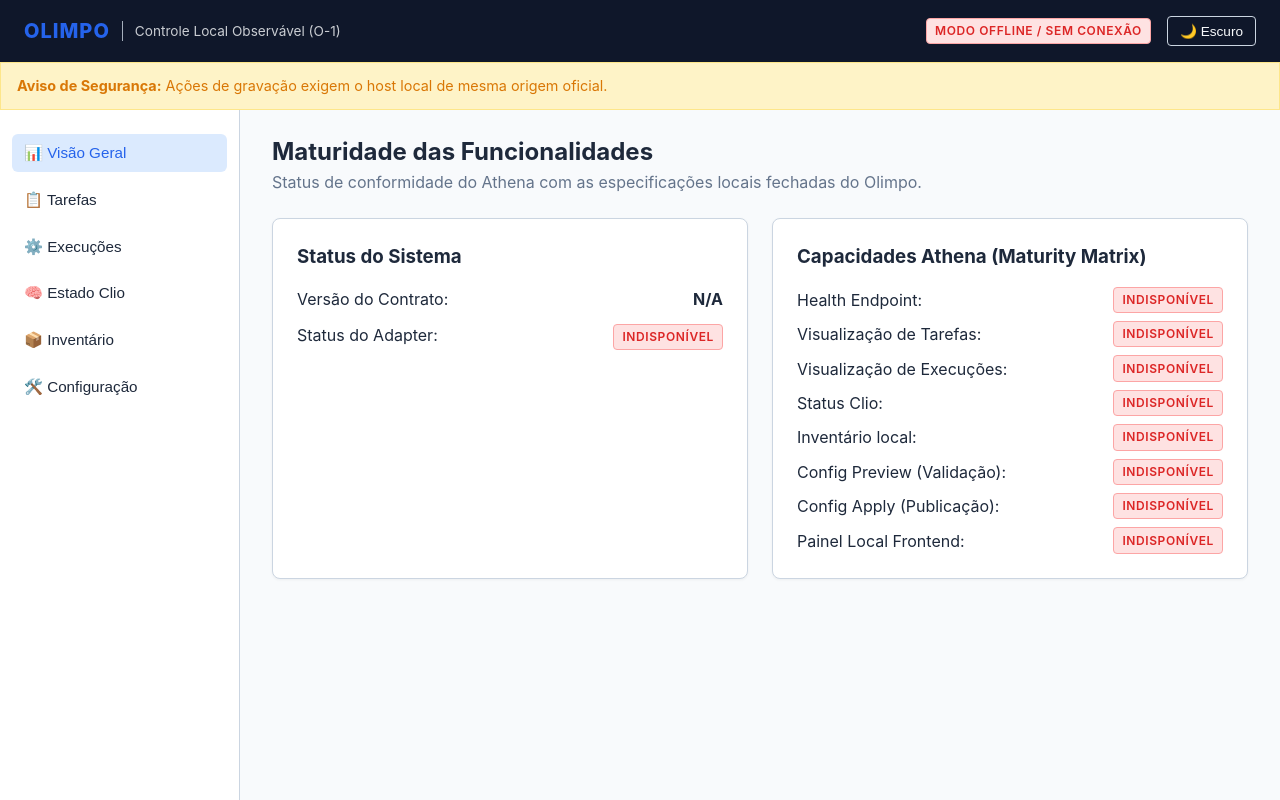
Scenario: Athena OLIMPO-0 Frontend Tests › 7. Offline state has no fake data
# Go to tasks tab
What coordinates should you click on to do the following:
click the button "📋 Tarefas"
I would click on:
 (120, 200)
Its box is [12,180,227,219].
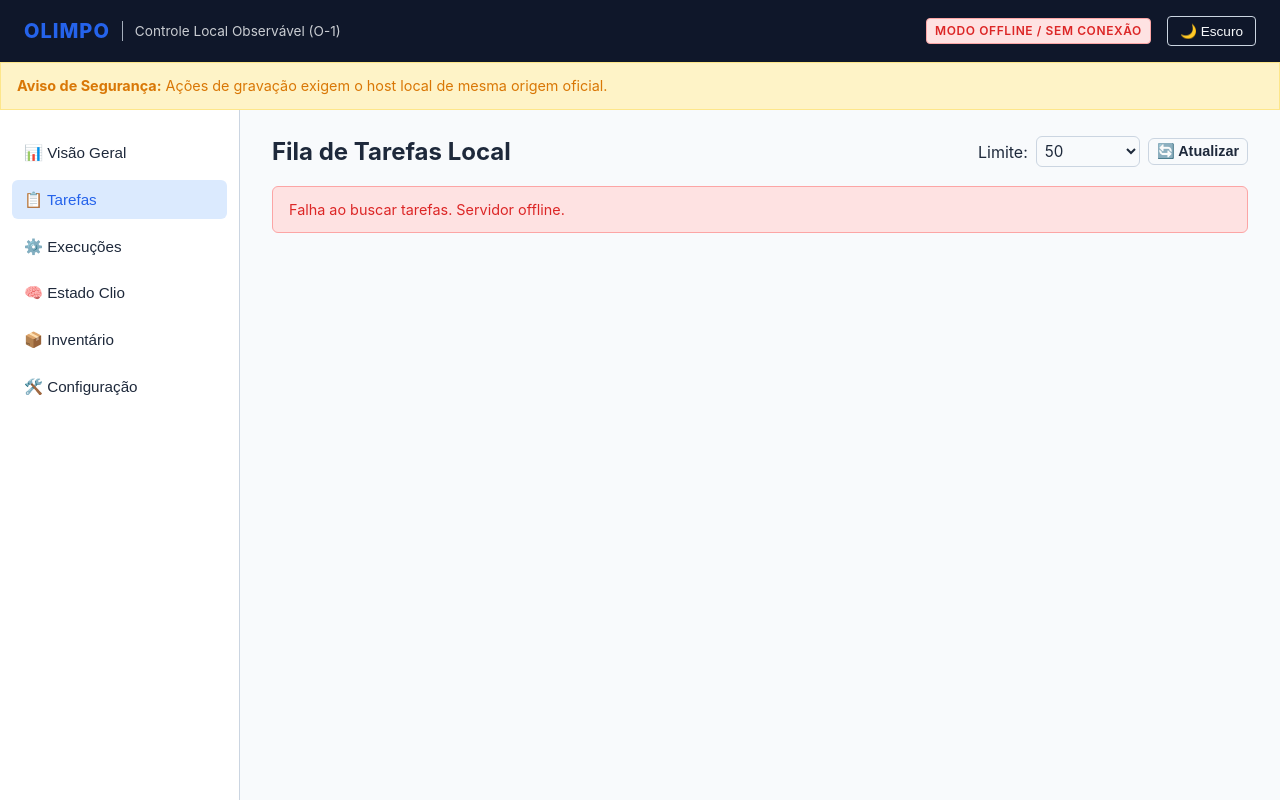
Expected: the text "Falha ao buscar tarefas. Servidor offline." is shown, [272,186,1248,233]
# Go to executions tab
What coordinates should you click on to do the following:
click the button "⚙️ Execuções"
I would click on:
 (120, 247)
Its box is [12,227,227,266].
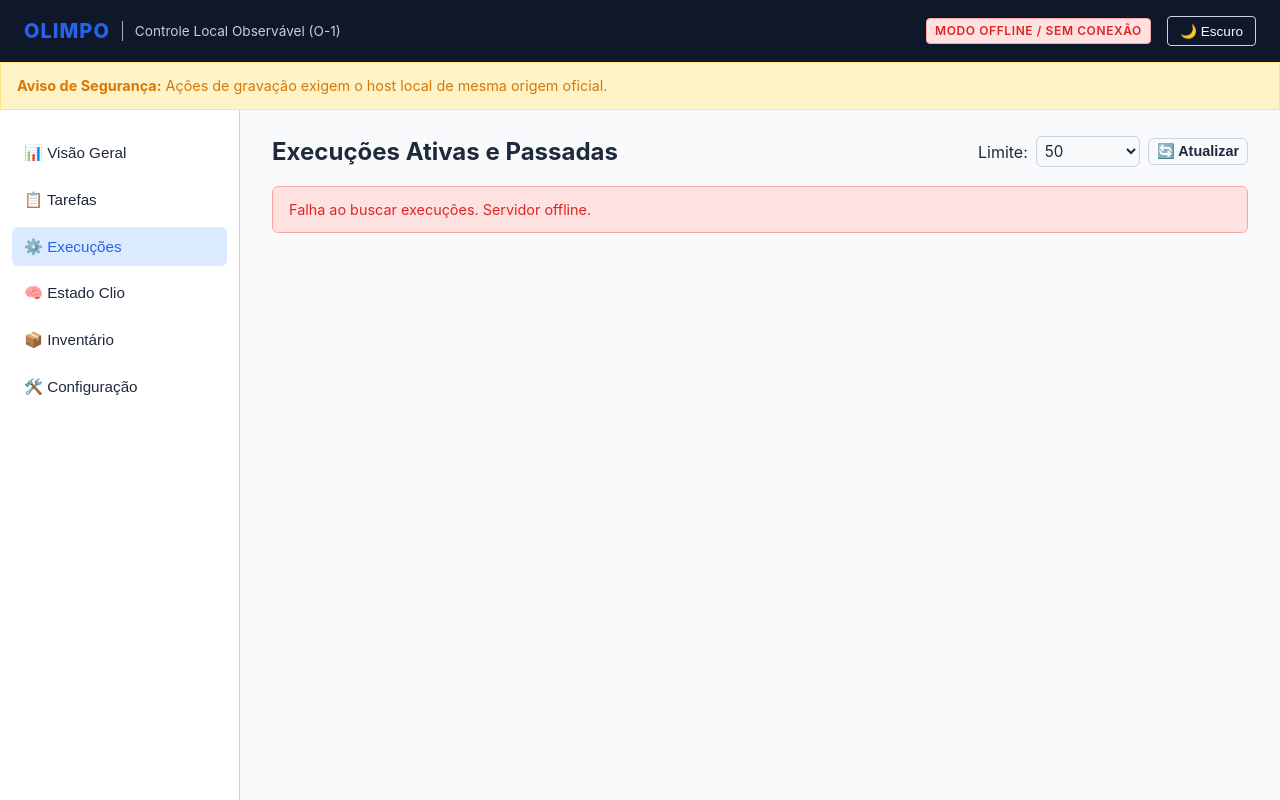
Expected: the text "Falha ao buscar execuções. Servidor offline." is shown, [272,186,1248,233]
# Go to clio tab
What coordinates should you click on to do the following:
click the button "🧠 Estado Clio"
I would click on:
 (120, 293)
Its box is [12,274,227,313].
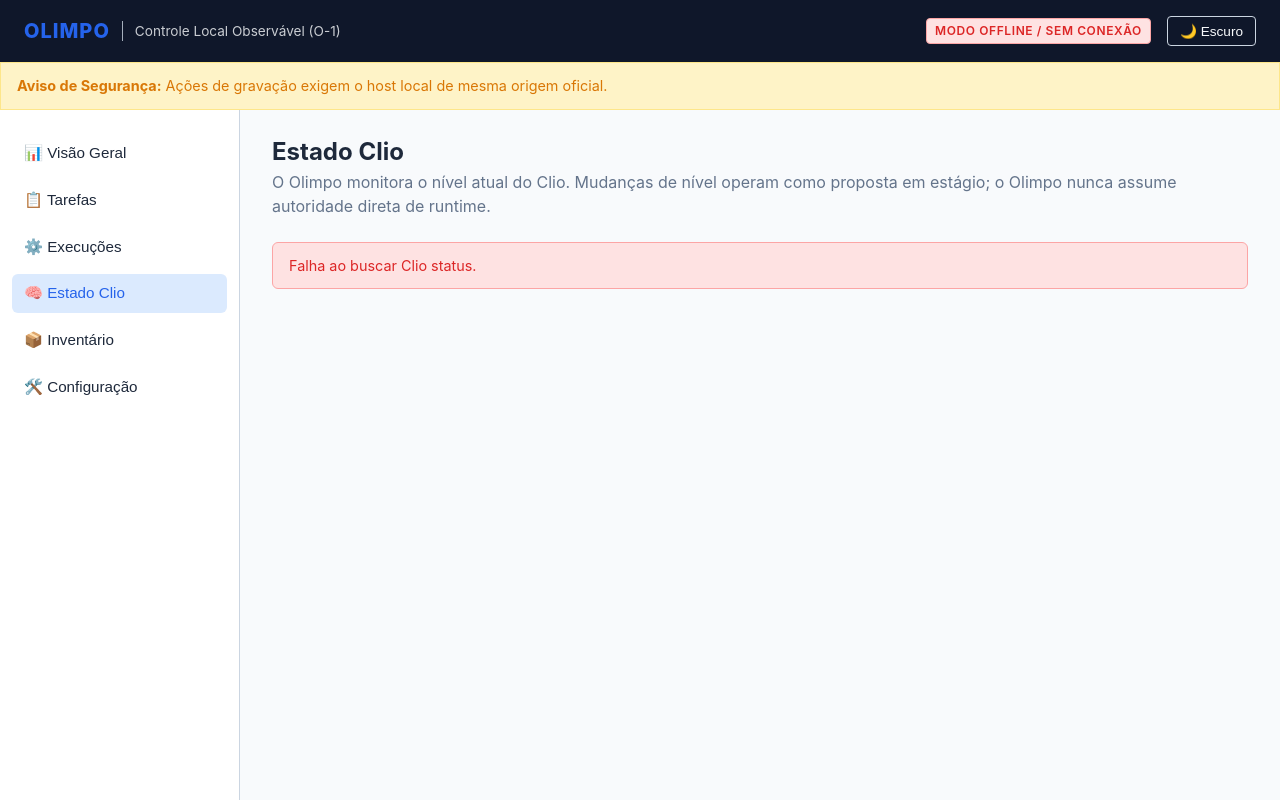
Expected: the text "Falha ao buscar Clio status." is shown, [272,242,1248,289]
# Go to inventory tab
What coordinates should you click on to do the following:
click the button "📦 Inventário"
I would click on:
 (120, 340)
Its box is [12,321,227,360].
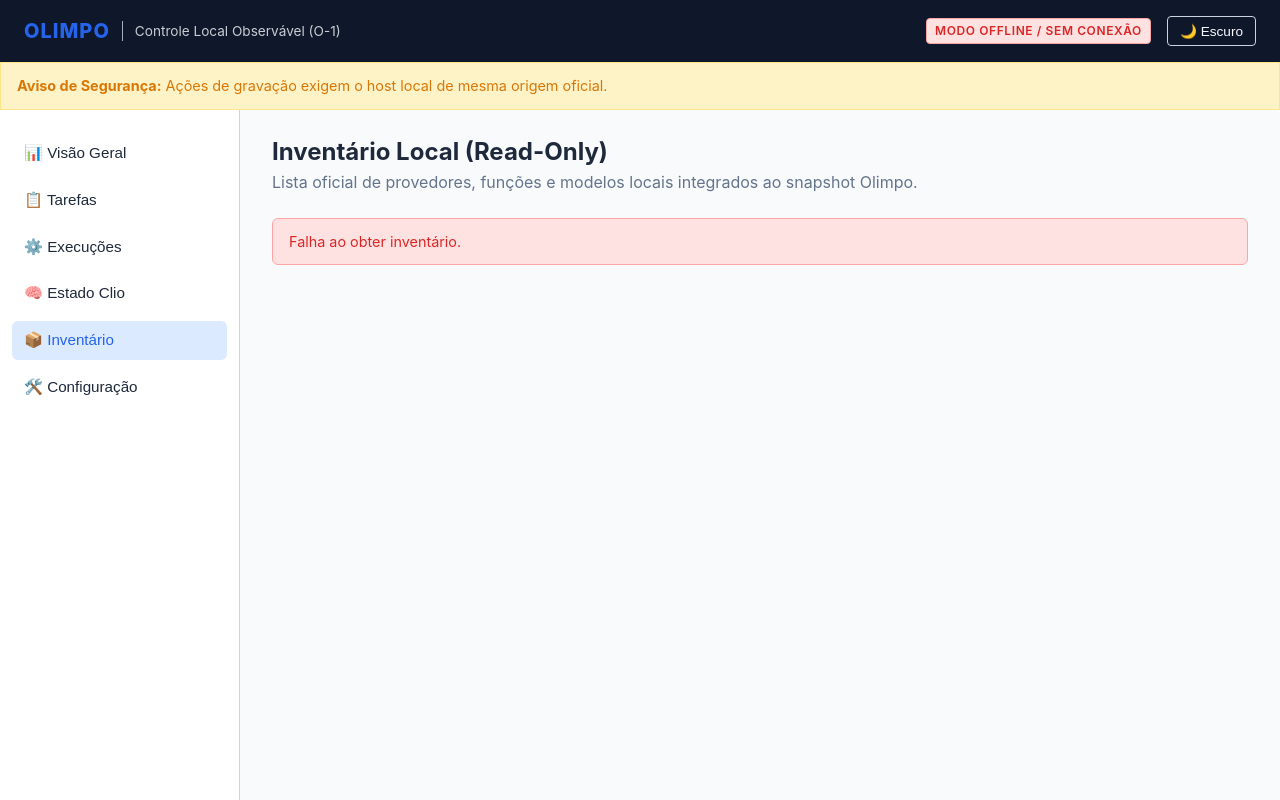
Expected: the text "Falha ao obter inventário." is shown, [272,218,1248,265]
# Go to config tab
What coordinates should you click on to do the following:
click the button "🛠️ Configuração"
I would click on:
 (120, 387)
Its box is [12,368,227,406].
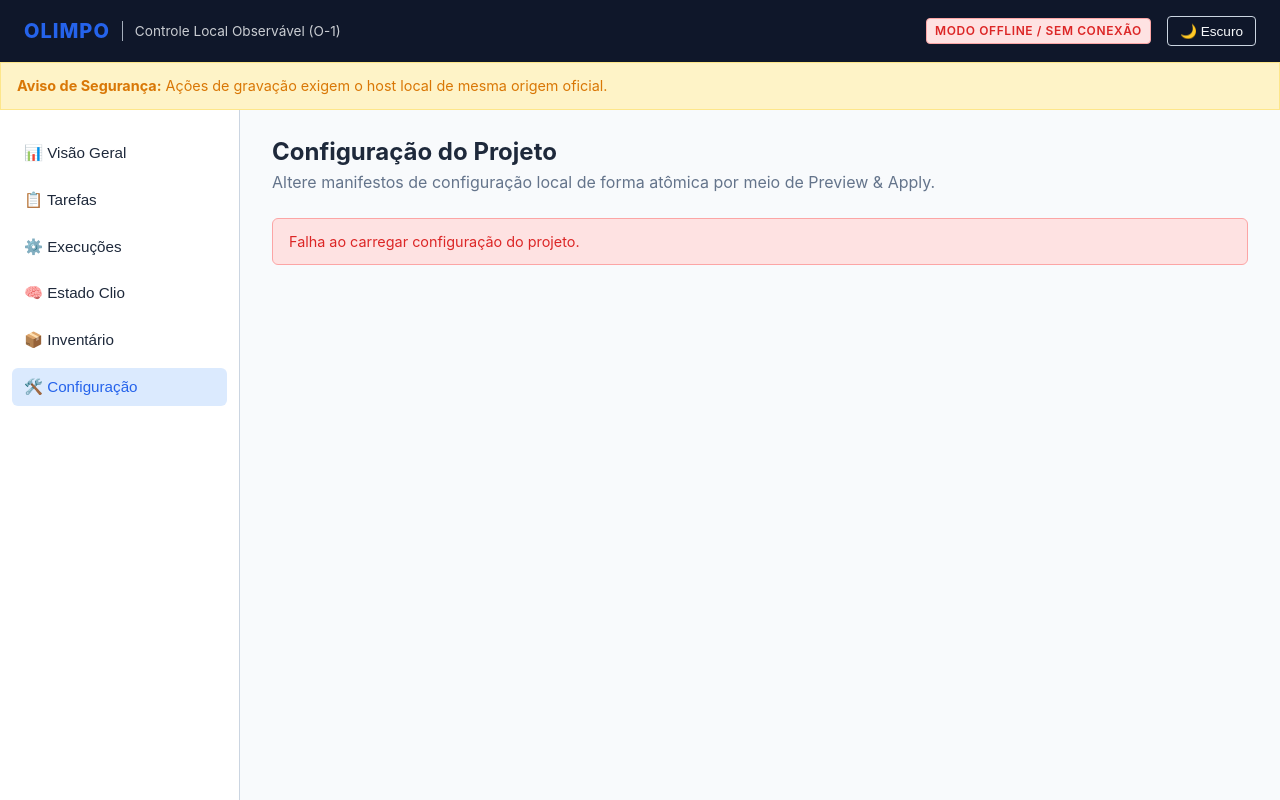
Expected: the text "Falha ao carregar configuração do projeto." is shown, [272,218,1248,265]
